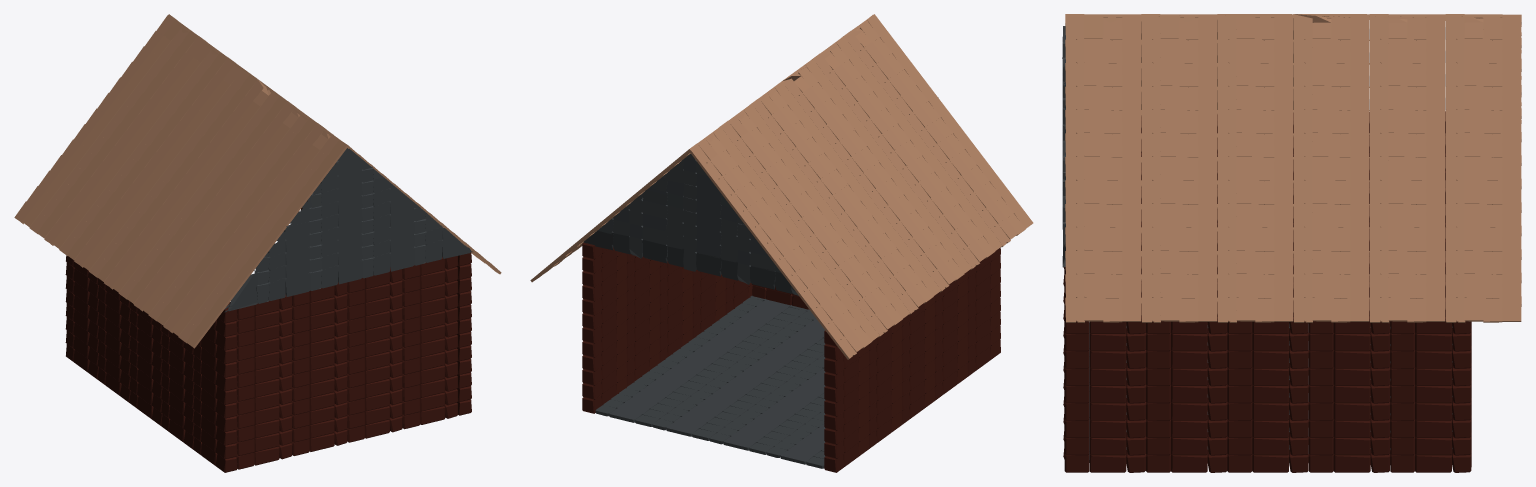
The model's file is Garage.glb.
3 views of the same model, side by side, from view 1: azimuth 30°, elevation 25°; view 2: azimuth 150°, elevation 25°; view 3: azimuth 270°, elevation 25° (orthographic). The views are drawn at different scales.
Parts seen in each view (by area): view 1: TailsRoof; view 2: TailsRoof; view 3: TailsRoof.
Boxes of the visible parts, x1,y1,x2,y2 form: TailsRoof: (14,14,501,472); TailsRoof: (530,14,1033,472); TailsRoof: (1062,14,1521,472).
Size of the model in its own units: 15.9 by 14.68 by 16.02.
